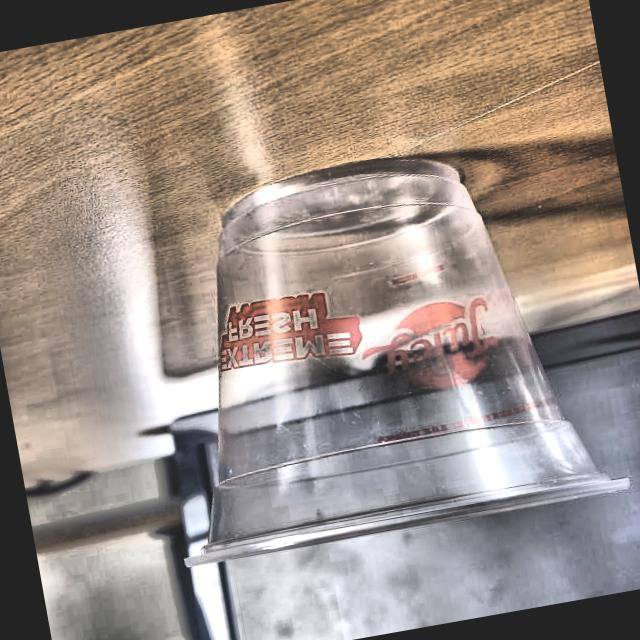plastic cup: (119, 122, 632, 570)
